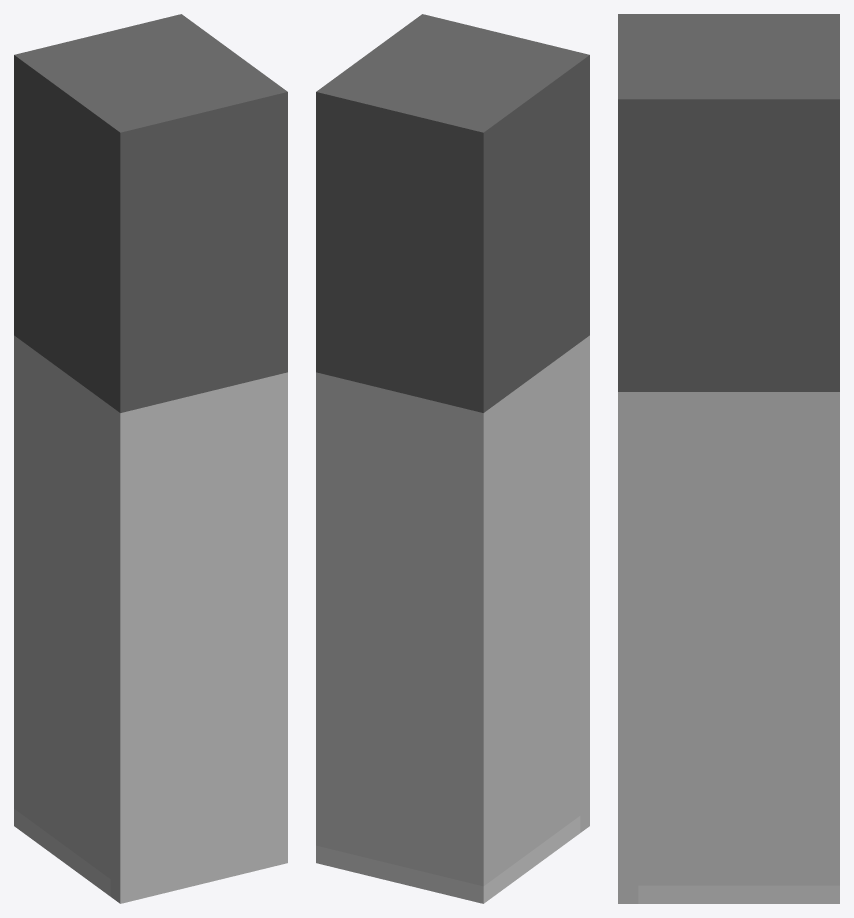
Rendered from skeleton-4.obj.
The picture shows the model from 3 angles, left to right: view 1: azimuth 30°, elevation 25°; view 2: azimuth 150°, elevation 25°; view 3: azimuth 270°, elevation 25°; orthographic projection. The views are drawn at different scales.
Size of the model in its own units: 1 by 4.4 by 1.1.
Materials: 1 (1 with a texture image).
